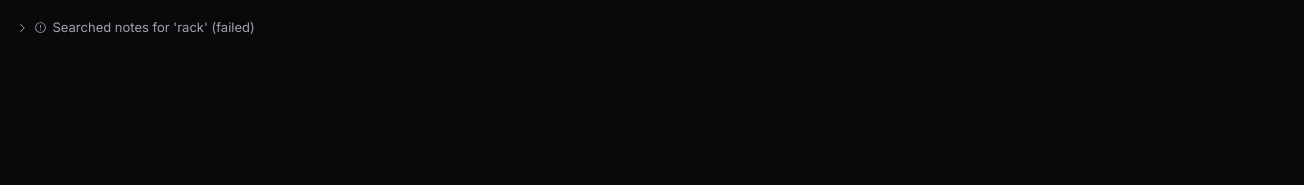
Scenario: ToolStep › test a missing result shows No result, a failed one its suffix and icon
The image size is (1304, 185).
Check: the 2nd picture is shown, box [34,21,47,34]
Click the button "Searched notes for 'rack' (failed)". click: (154,27)
box: [12,16,1292,39]
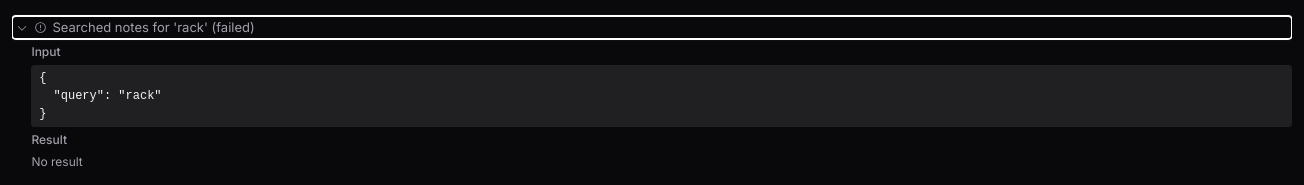
Check: the text "No result" is shown, box [31,154,83,168]
